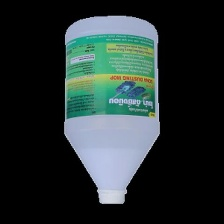cleaning_solution: (61, 11, 164, 208)
